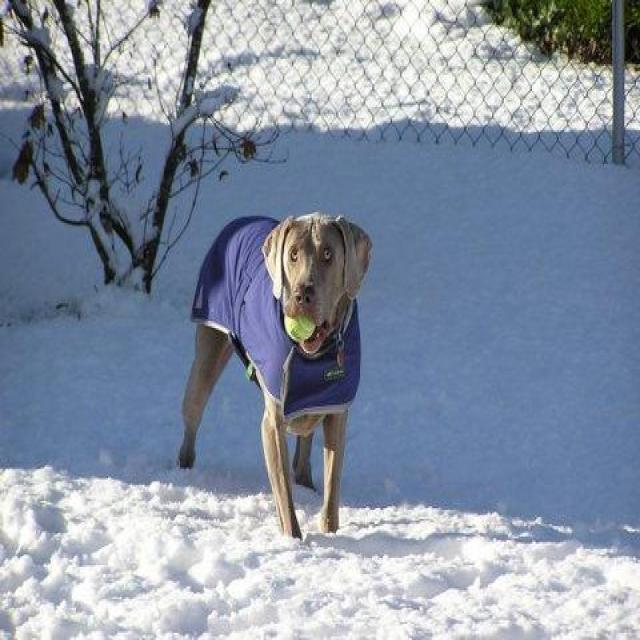adult_dog: (179, 211, 372, 538)
